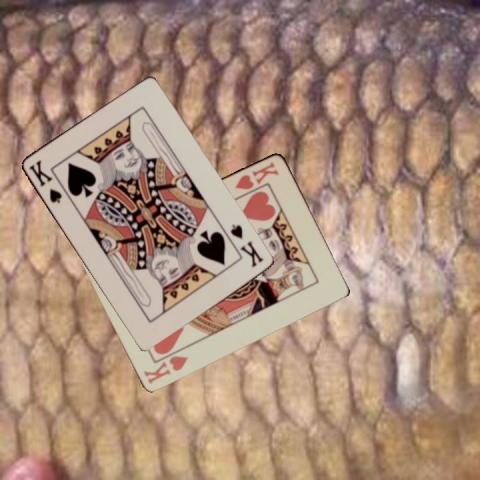Kh: (141, 352, 189, 385), (232, 158, 281, 190)
Ks: (26, 156, 63, 204), (227, 221, 264, 269)
